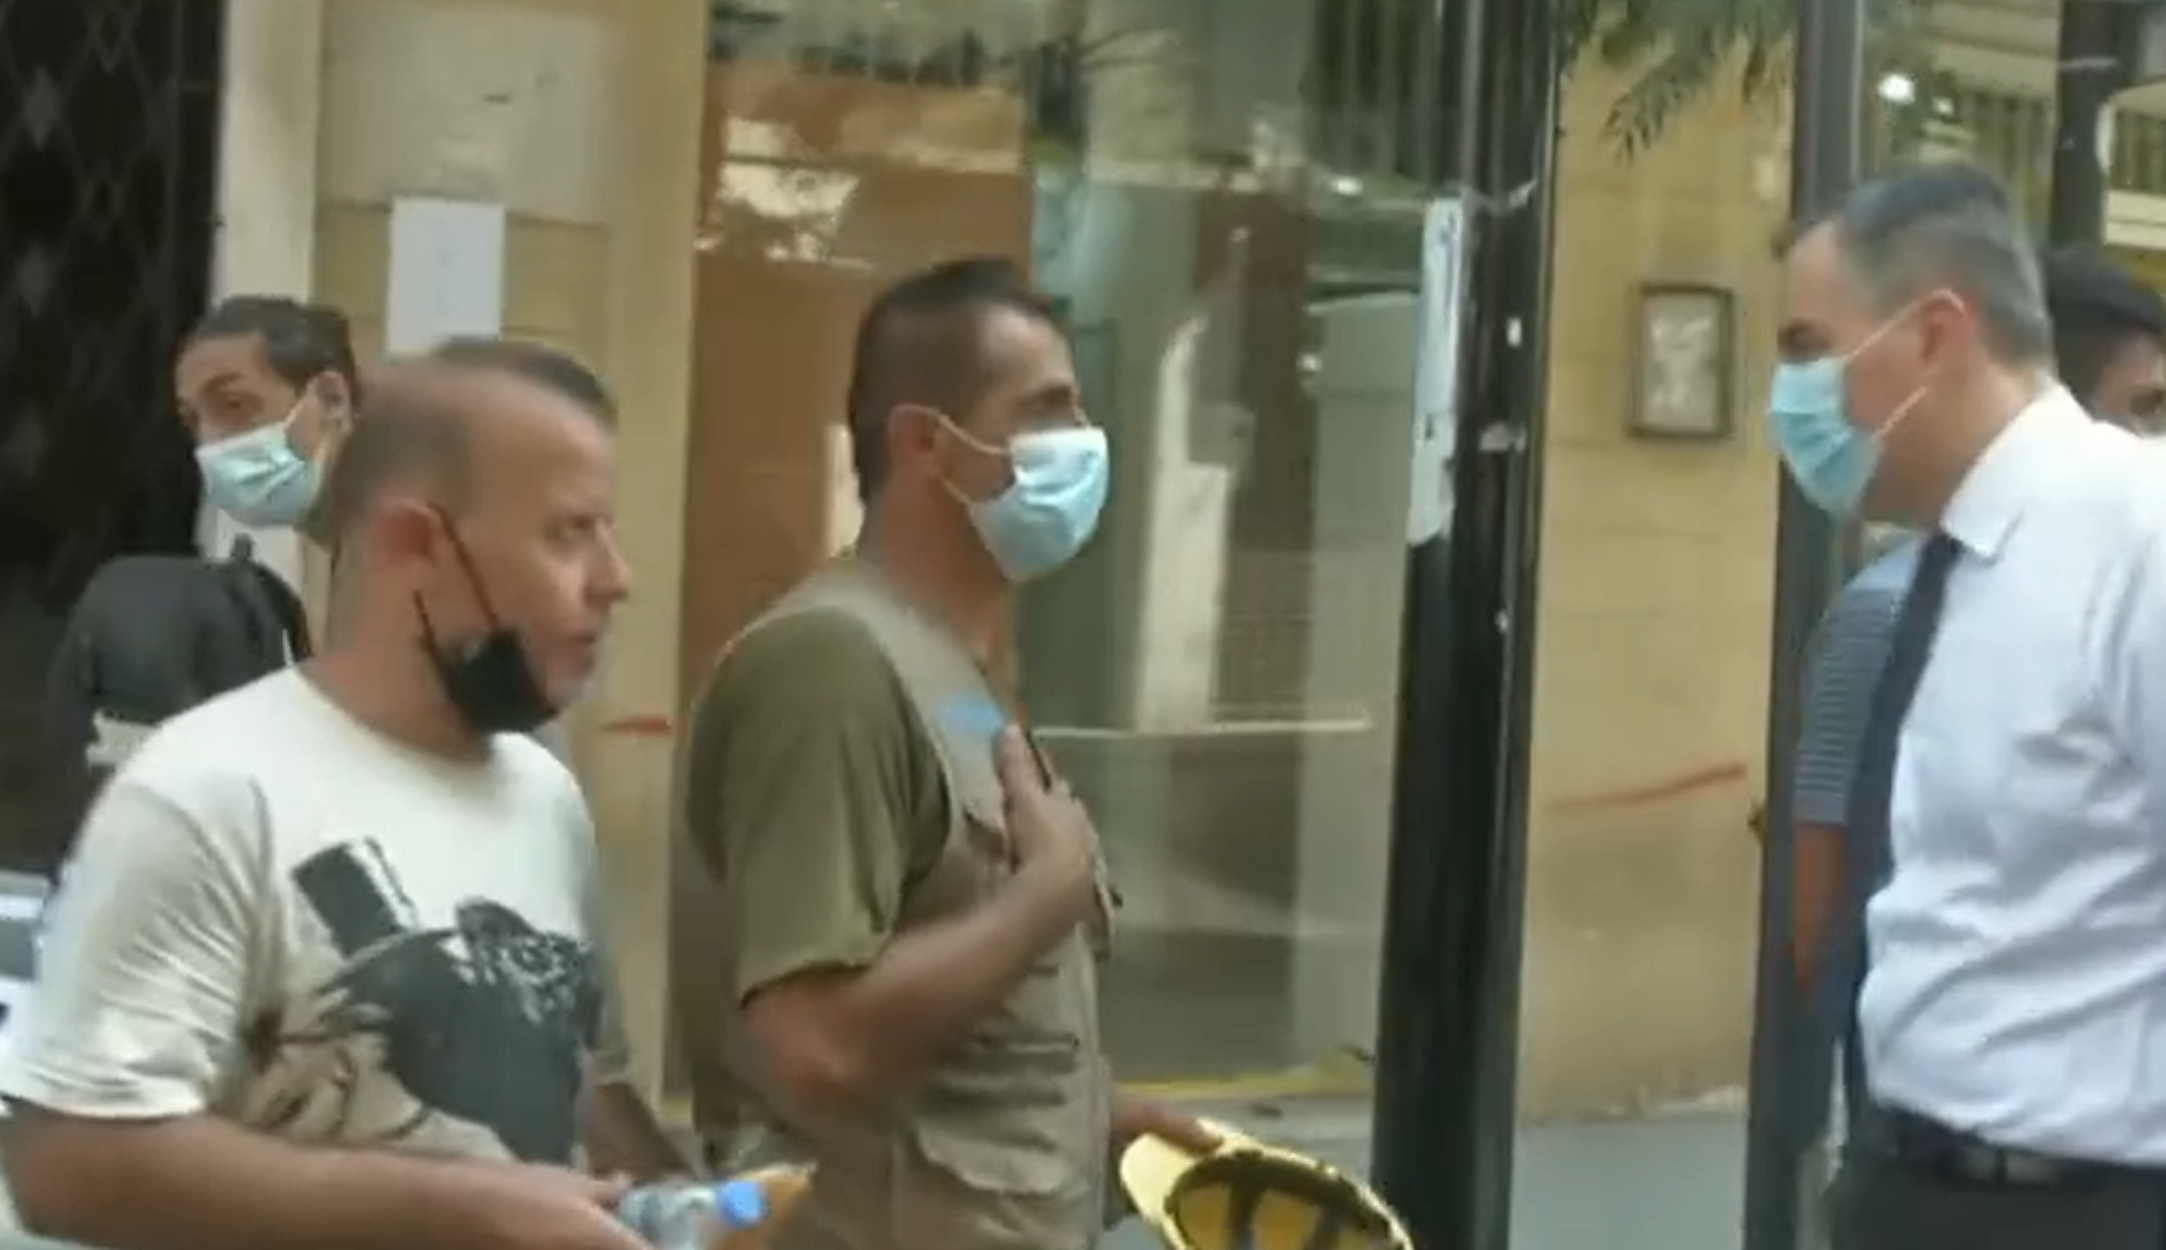mask_weared_incorrect: (373, 415, 646, 755)
